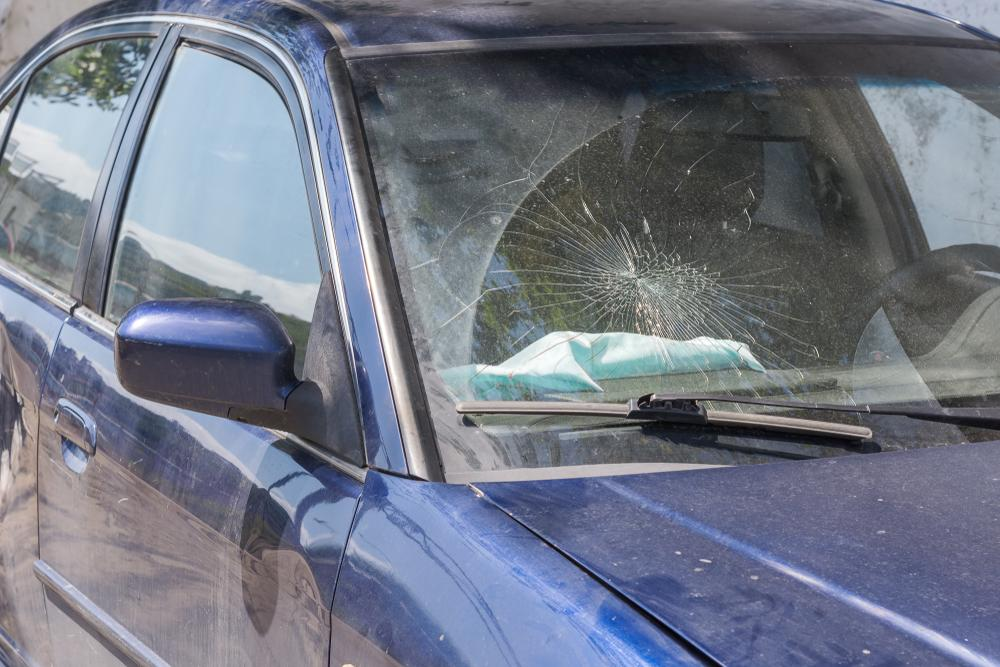glass shatter: (348, 42, 1000, 485)
